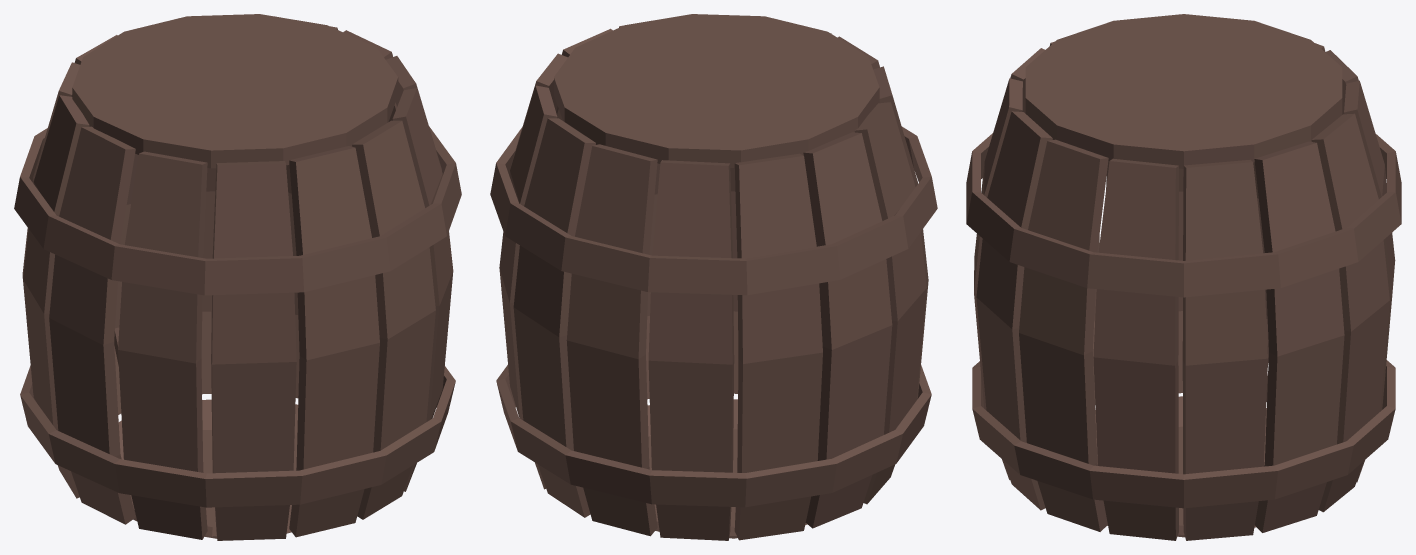
Rendered from SM_barrell_02.fbx.
3 views of the same model, side by side, from view 1: azimuth 30°, elevation 25°; view 2: azimuth 150°, elevation 25°; view 3: azimuth 270°, elevation 25° (orthographic).
Visible parts, largest first — view 1: barrell_02; view 2: barrell_02; view 3: barrell_02.
Boxes of the visible parts, x1,y1,x2,y2 form: barrell_02: [14, 14, 461, 540]; barrell_02: [490, 14, 937, 540]; barrell_02: [966, 14, 1401, 540].
Bounding box in the file's own units: 96.27 × 95.9 × 93.86.
